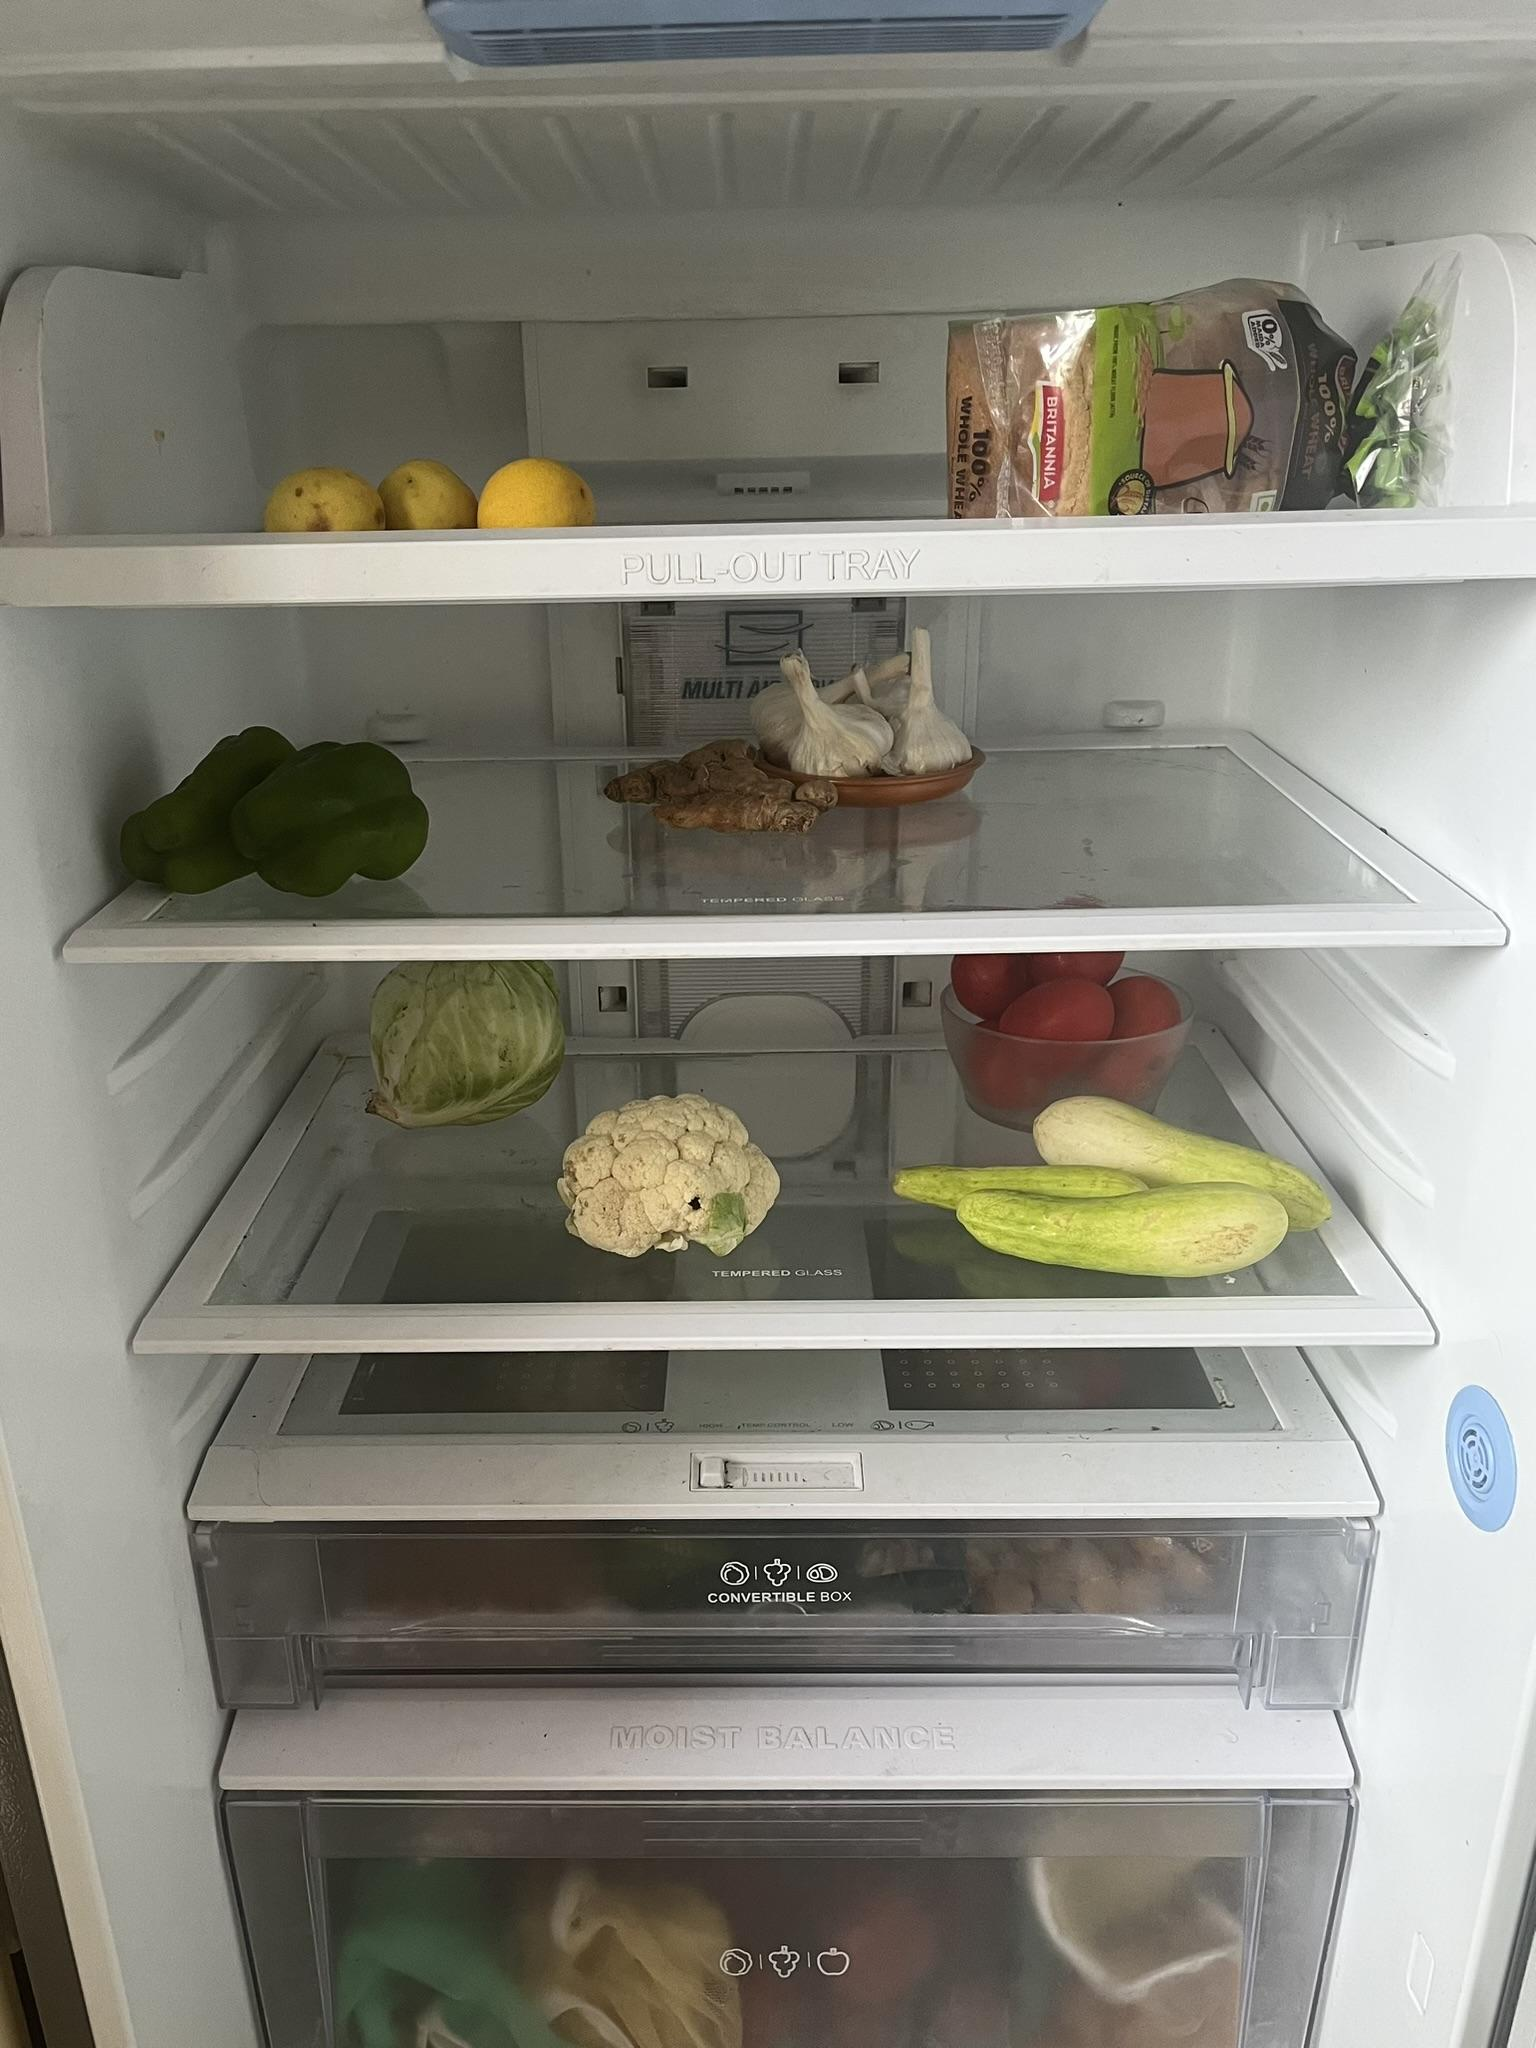bread: (933, 266, 1470, 537)
cabbage: (334, 956, 587, 1140)
capsicum: (106, 716, 444, 910)
cauliflower: (541, 1090, 797, 1271)
cucumber: (873, 1087, 1363, 1287)
garlic: (741, 634, 976, 797)
ginger: (600, 724, 854, 840)
lemon: (240, 440, 623, 534)
tomato: (941, 953, 1176, 1116)
